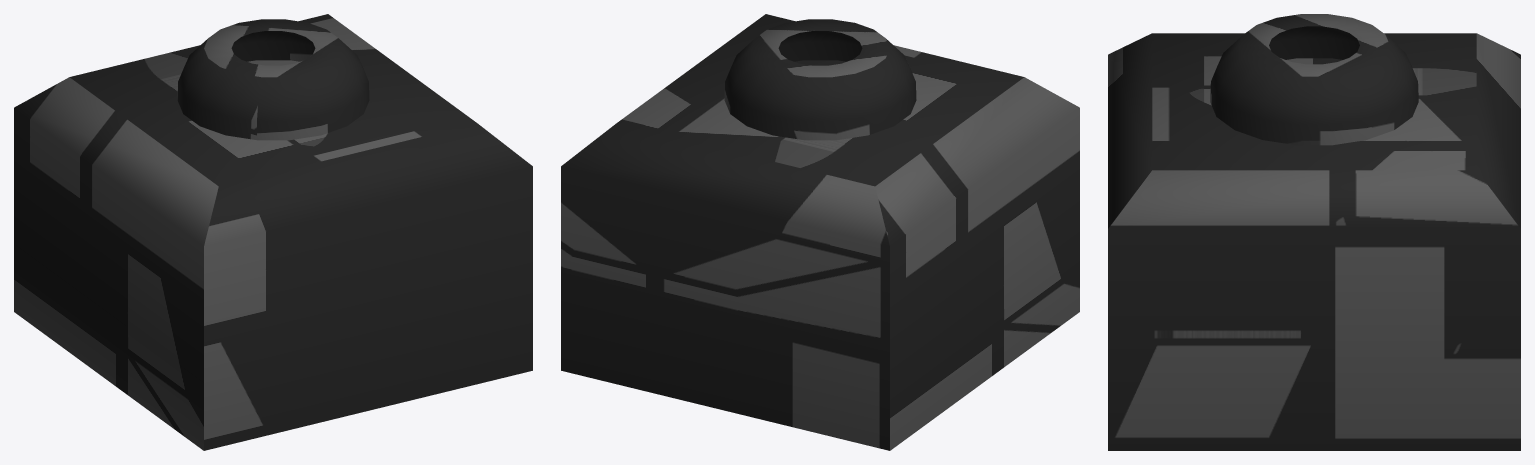
Rendered from KranOsnova.fbx.
3 renders of one model, left to right at view 1: azimuth 30°, elevation 25°; view 2: azimuth 150°, elevation 25°; view 3: azimuth 270°, elevation 25°, orthographic. The views are drawn at different scales.
Visible parts, largest first — view 1: БлокОтКрана; view 2: БлокОтКрана; view 3: БлокОтКрана.
Part boxes in pixels (left/top/right/bottom): БлокОтКрана: left=14, top=14, right=532, bottom=450; БлокОтКрана: left=561, top=14, right=1079, bottom=450; БлокОтКрана: left=1108, top=14, right=1520, bottom=450.
Size of the model in its own units: 2 by 1.7 by 2.
